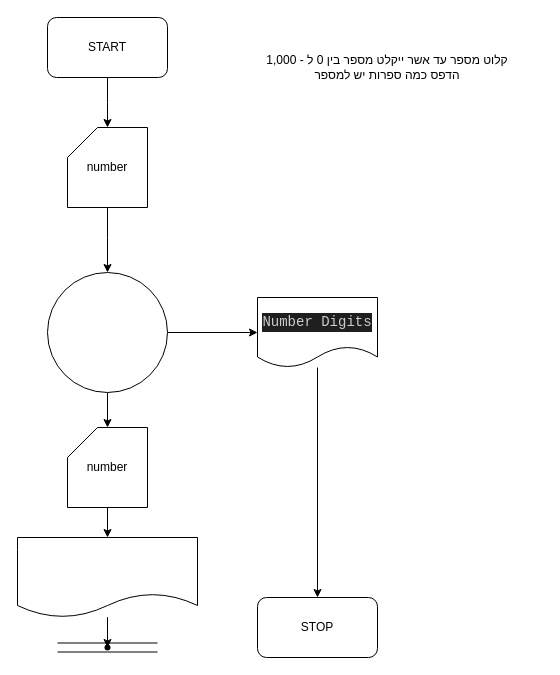
Some shapes in this 560 by 675 pixel diagram are drawn without their labels. The centre of each missing label's shape, as x and y in pixels:
"( number <= 0 || number > 1001 )" goes at [107,332].
"Please enter a POSITIVE number between 0 to 1,000" goes at [107,577].
